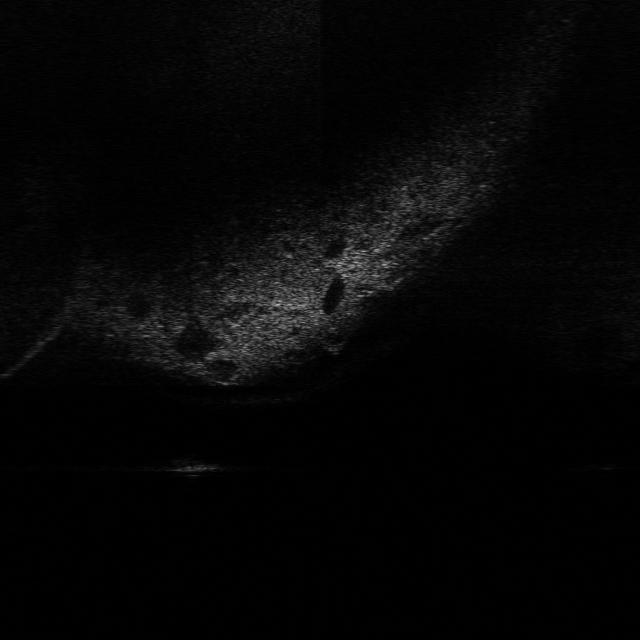ball: (316, 317, 352, 356)
cube: (156, 452, 226, 484)
